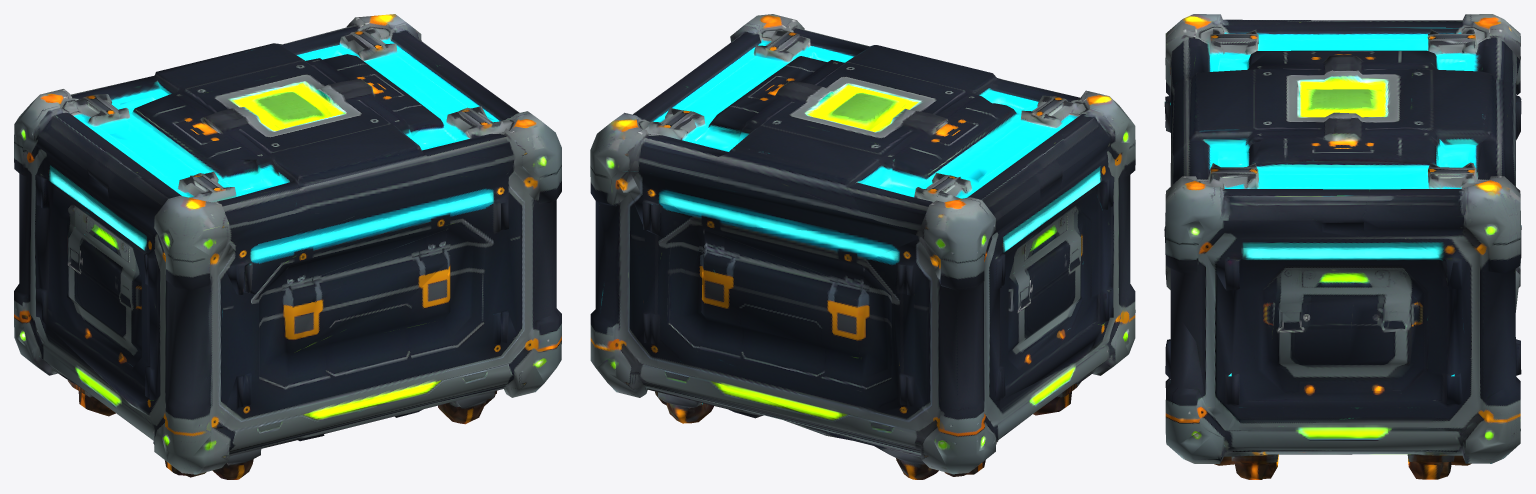
3 views of the same model, side by side, from view 1: azimuth 30°, elevation 25°; view 2: azimuth 150°, elevation 25°; view 3: azimuth 270°, elevation 25° (orthographic). The views are drawn at different scales.
Bounding box in the file's own units: 1.9 × 1.42 × 1.47.
1 material, 1 textured.
